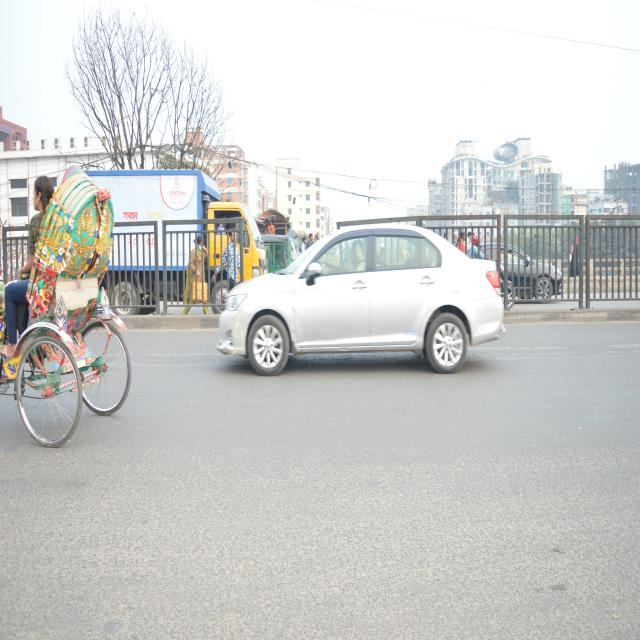car: (217, 218, 506, 374), (491, 239, 569, 303)
pickup-van: (80, 164, 268, 308)
